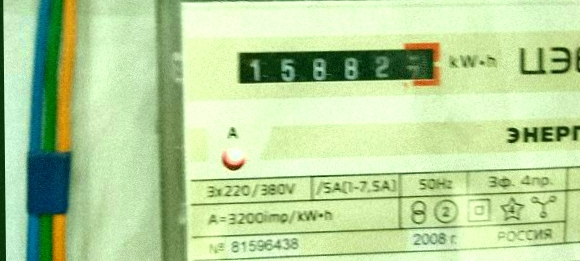1: (247, 57, 262, 82)
2: (373, 52, 390, 78)
5: (278, 56, 295, 82)
7: (404, 62, 419, 78)
8: (309, 56, 327, 80), (341, 54, 358, 79)
screen: (223, 35, 450, 97)
